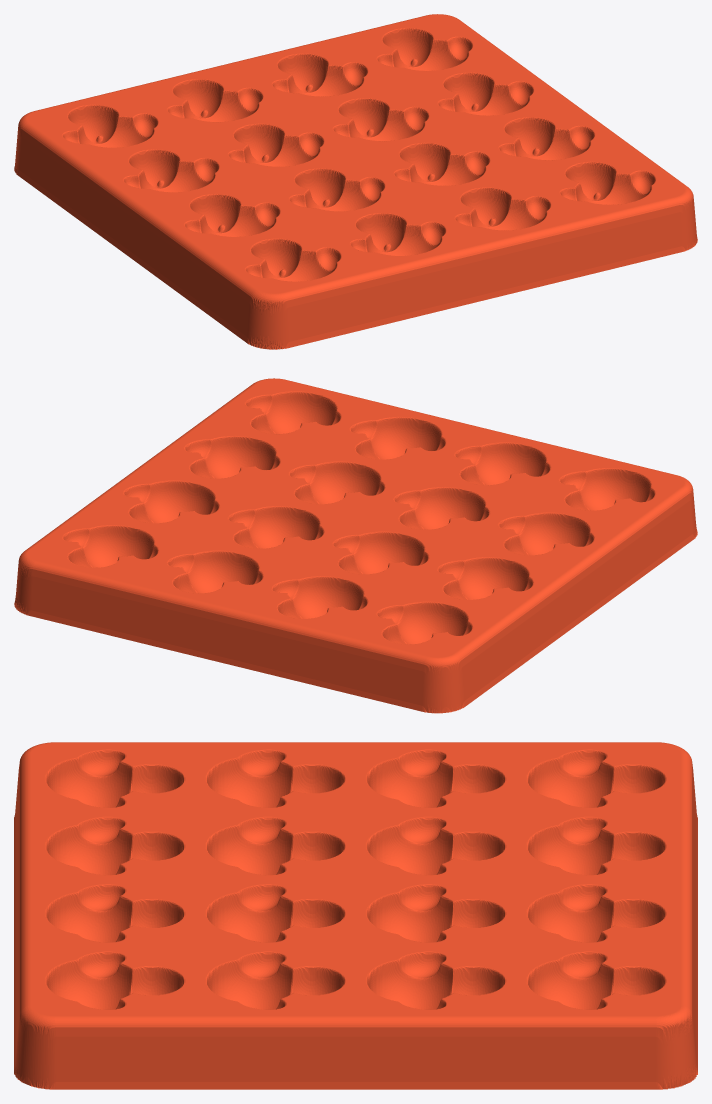
The model's file is mold.glb.
3 renders of one model, top to bottom at view 1: azimuth 30°, elevation 25°; view 2: azimuth 150°, elevation 25°; view 3: azimuth 270°, elevation 25°, orthographic. The views are drawn at different scales.
Visible parts, largest first — view 1: geometry_0; view 2: geometry_0; view 3: geometry_0.
Part boxes in pixels (x1,y1,x2,y2): geometry_0: [14, 14, 697, 349]; geometry_0: [14, 378, 697, 713]; geometry_0: [14, 742, 697, 1089].
Bounding box in the file's own units: 0.1465 × 0.0158 × 0.1475.
